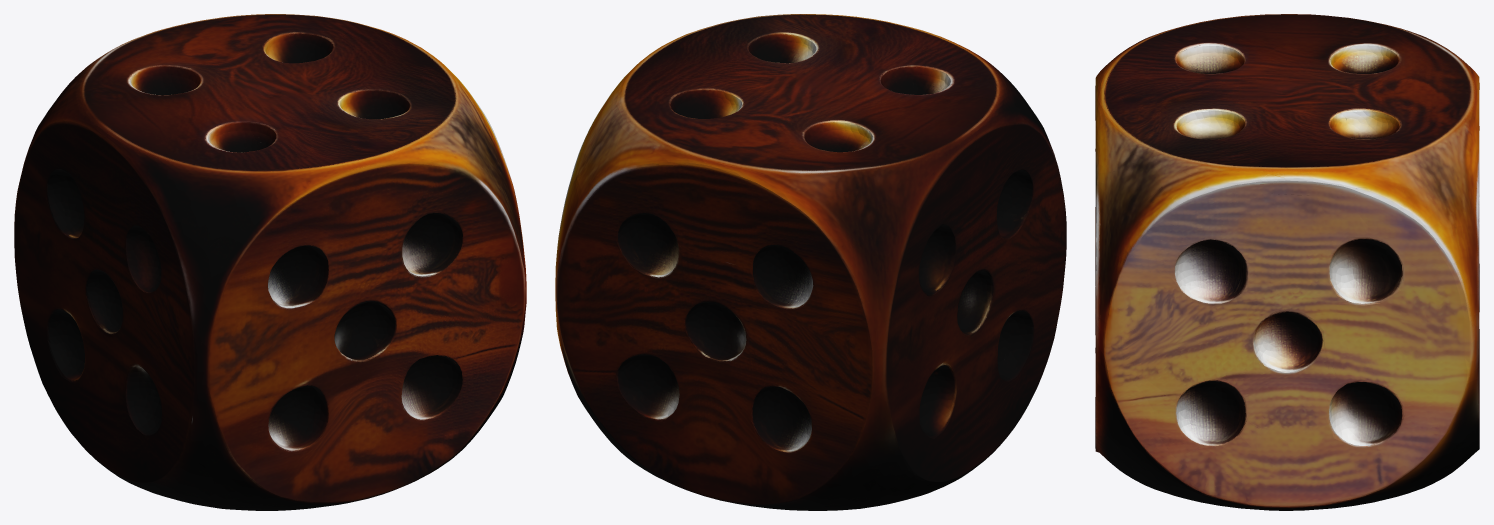
Rendered from wooden-dice-vintage.jpeg.glb.
3 renders of one model, left to right at view 1: azimuth 30°, elevation 25°; view 2: azimuth 150°, elevation 25°; view 3: azimuth 270°, elevation 25°, orthographic.
Parts seen in each view (by area): view 1: world; view 2: world; view 3: world.
Part boxes in pixels (left/top/right/bottom): world: left=14, top=14, right=526, bottom=510; world: left=555, top=14, right=1066, bottom=510; world: left=1095, top=14, right=1479, bottom=510.
Size of the model in its own units: 1 by 0.9916 by 1.
Materials: 1 (1 with a texture image).
